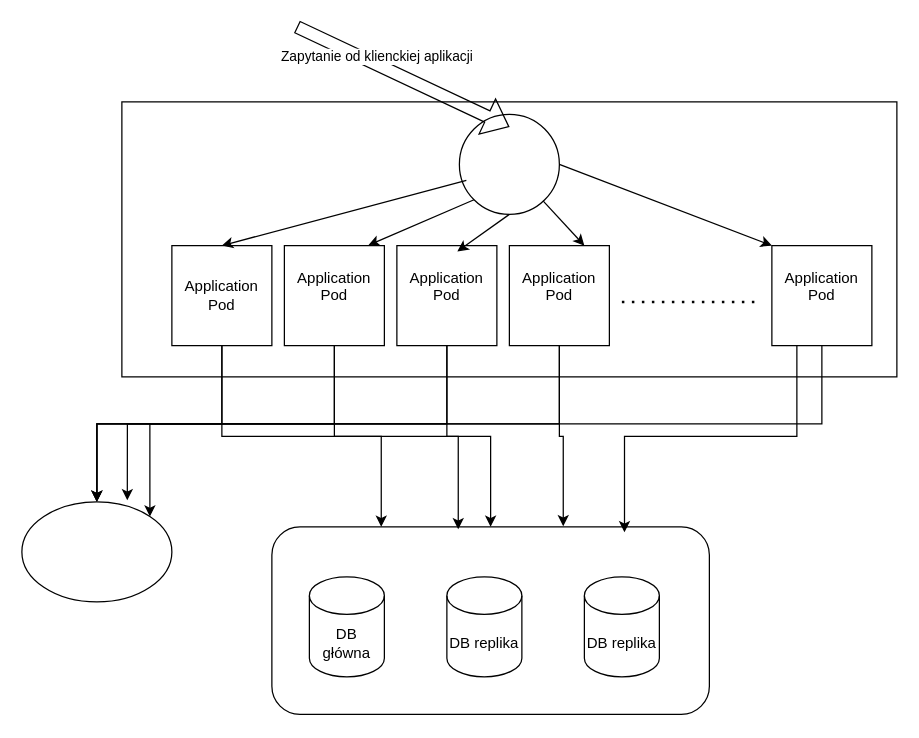
This 919x738 diagram has some shape labels left out. The centre of each missing label's shape, as x and y in pixels:
Cache na przechowanie IP klientów: [96,551]
Load Balancer: [508,163]
